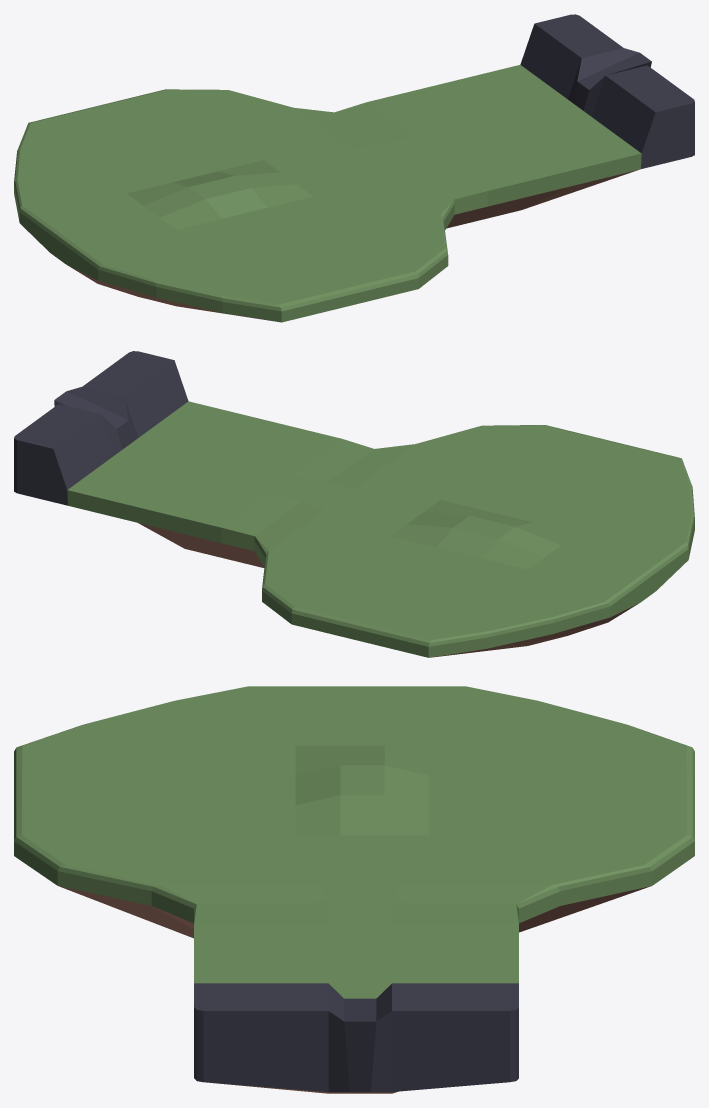
Rendered from cliffFood.fbx.
The picture shows the model from 3 angles, top to bottom: view 1: azimuth 30°, elevation 25°; view 2: azimuth 150°, elevation 25°; view 3: azimuth 270°, elevation 25°; orthographic projection. The views are drawn at different scales.
Parts seen in each view (by area): view 1: Cube.013; view 2: Cube.013; view 3: Cube.013.
Part boxes in pixels (x1,y1,x2,y2): Cube.013: [14, 14, 694, 322]; Cube.013: [14, 351, 694, 657]; Cube.013: [14, 686, 694, 1093].
Size of the model in its own units: 4339 by 3248 by 804.
